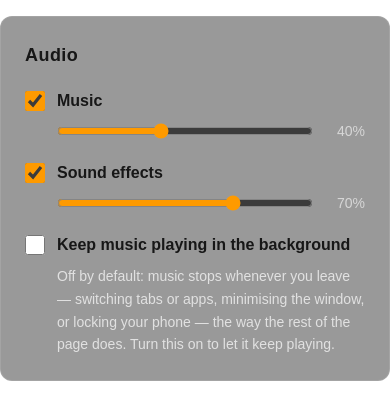
Test: AudioSettingsPanel › writes a dragged slider through to the stored setting
Set the slider named "Music volume" to "20" at (113,131), box [57, 123, 313, 139]
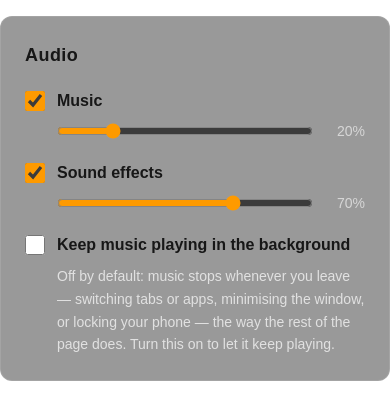
Check: the text "20%" is shown, box [337, 123, 365, 139]
